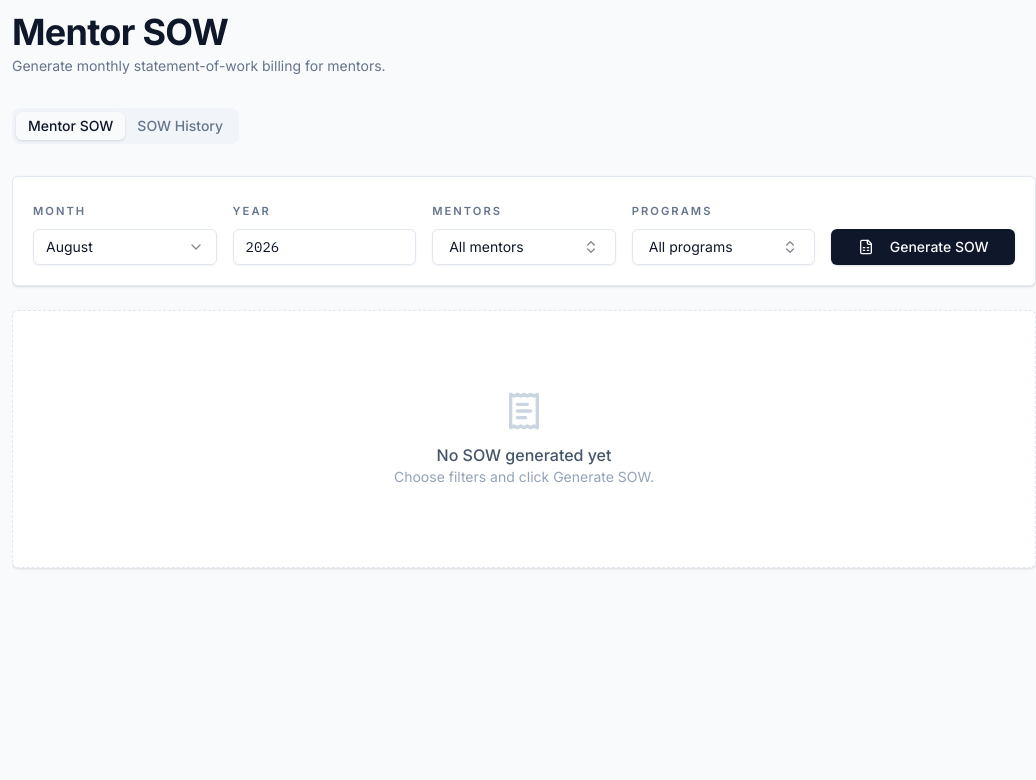
it: SOW — Mentor SOW tab › zero sessions shows an info toast and empty preview
This screenshot has width=1036, height=780.
Step 1. Click the button with test id "sow-generate-btn" → (923, 247), box 831,229 -> 1015,265
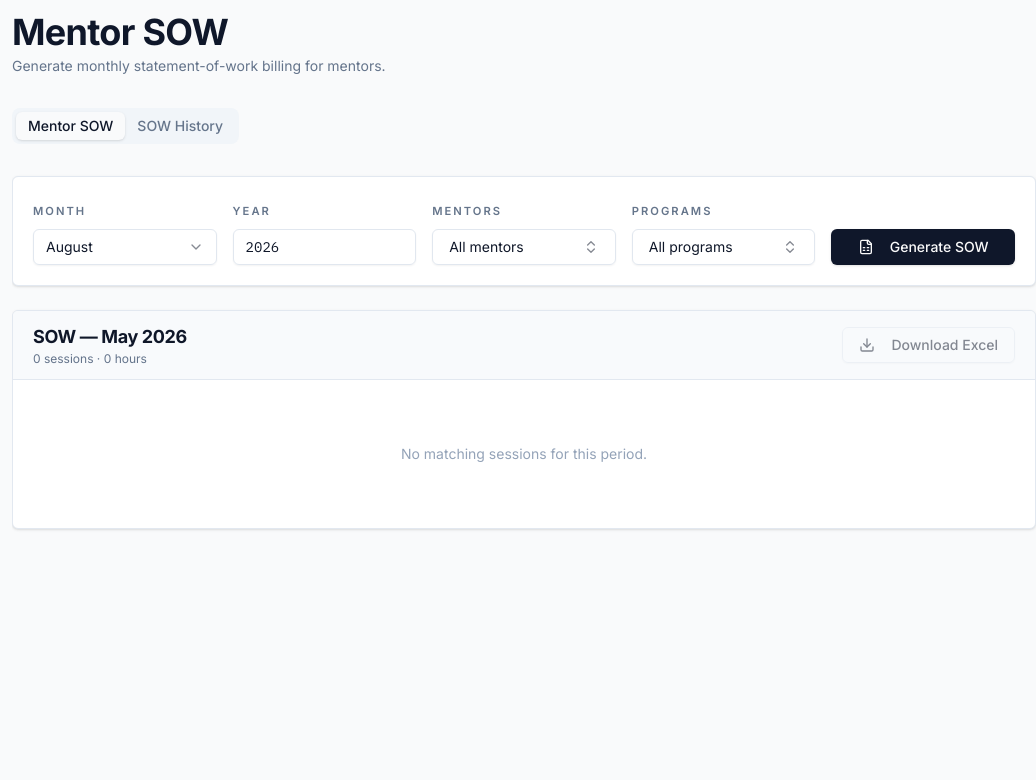
Check: the text "No matching sessions for this period." is shown, box 401,445 -> 647,462
